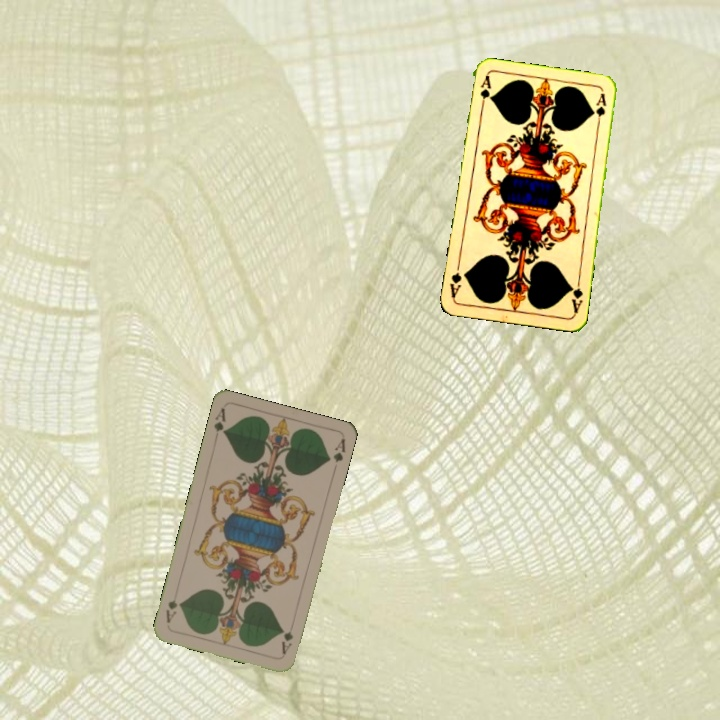GA: (278, 618, 297, 657), (567, 276, 585, 316), (476, 72, 493, 113), (210, 404, 229, 438)
